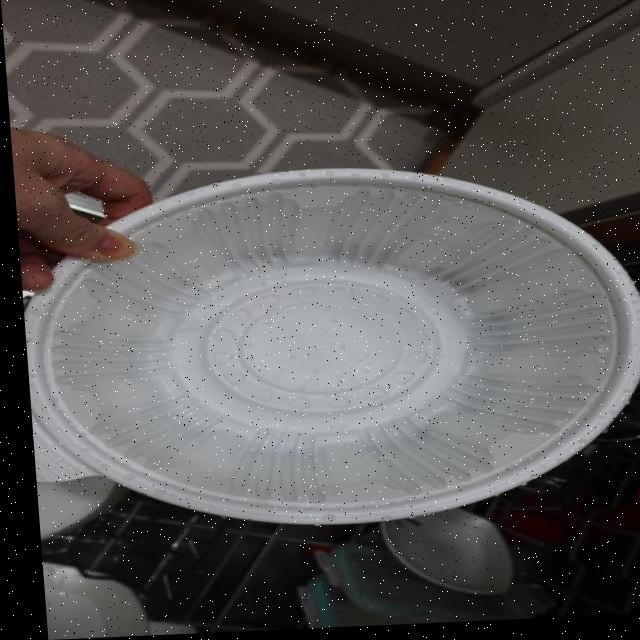disposable: (7, 105, 640, 548)
